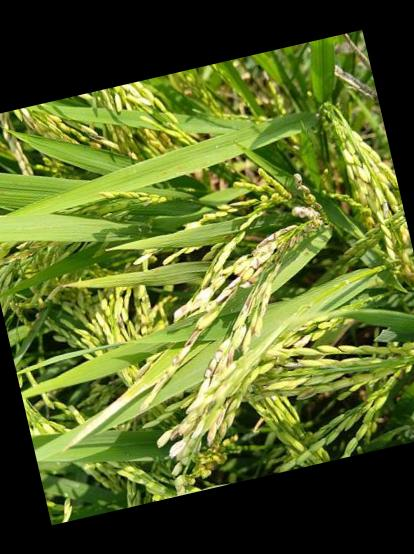Panicle Blight: (159, 328, 202, 384), (213, 262, 265, 304), (204, 342, 231, 396), (173, 285, 215, 319), (203, 407, 236, 448), (289, 205, 322, 246), (256, 225, 292, 248), (181, 328, 202, 356), (377, 199, 396, 222), (117, 310, 130, 341), (294, 171, 309, 191), (163, 425, 184, 439), (296, 386, 316, 400), (88, 132, 104, 149), (293, 333, 312, 346), (241, 294, 251, 312), (284, 362, 300, 370), (251, 323, 258, 335)
